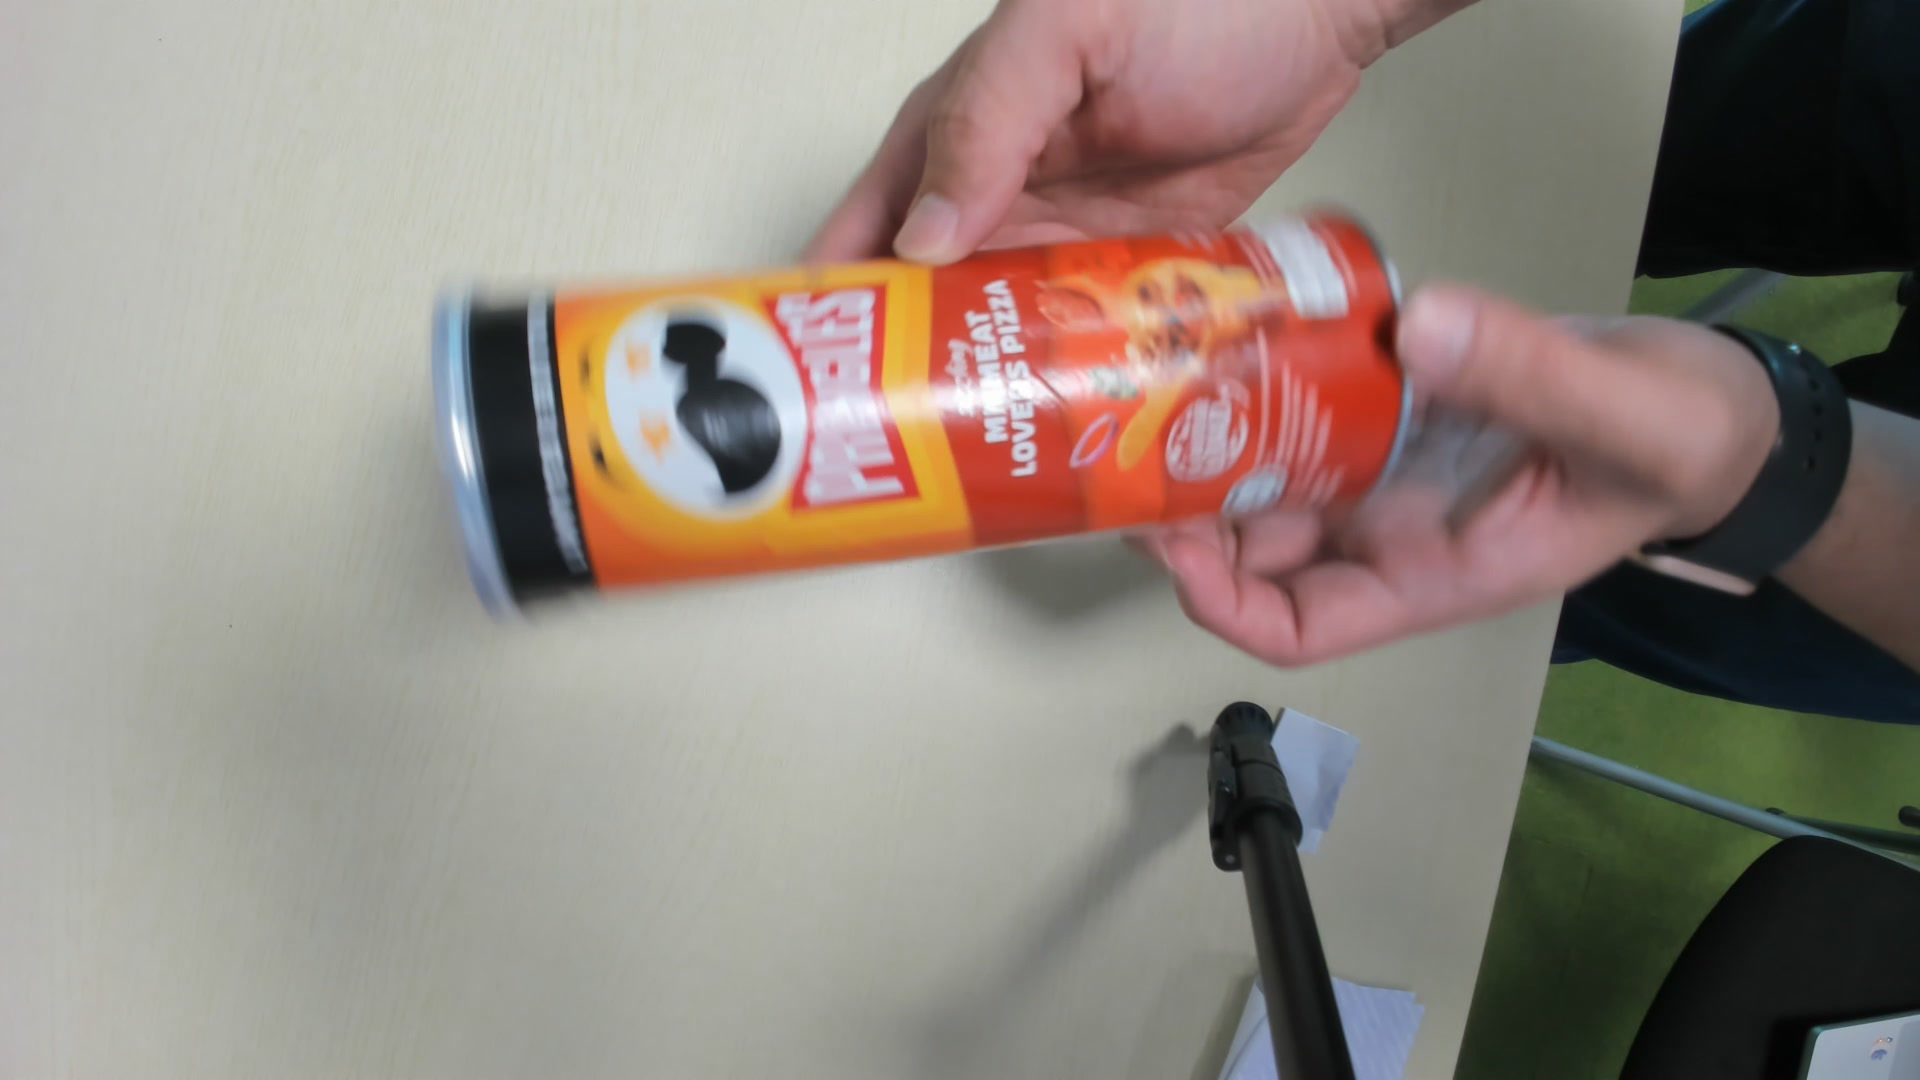PotatoChipsKeropok_0-99g_Halal_NonHealthy: (429, 222, 1407, 612)
